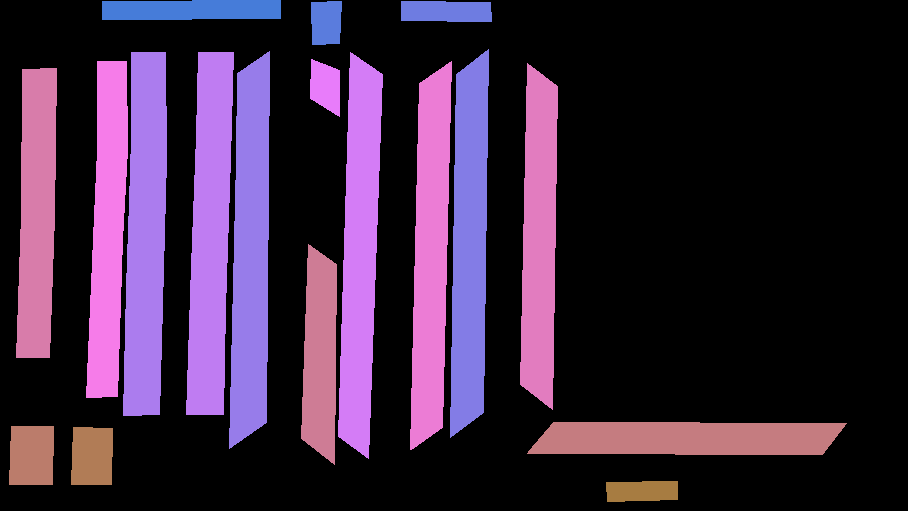parkingspot: (338, 52, 382, 458), (186, 52, 233, 414), (410, 61, 451, 449), (229, 51, 269, 448), (123, 52, 166, 415), (450, 49, 488, 437), (86, 61, 127, 397), (519, 62, 557, 409), (16, 68, 56, 357), (526, 421, 846, 454), (301, 244, 336, 464), (102, 0, 280, 19), (9, 426, 53, 484), (71, 427, 112, 484), (401, 1, 491, 21), (310, 59, 339, 116), (605, 480, 677, 501), (311, 1, 341, 44)
